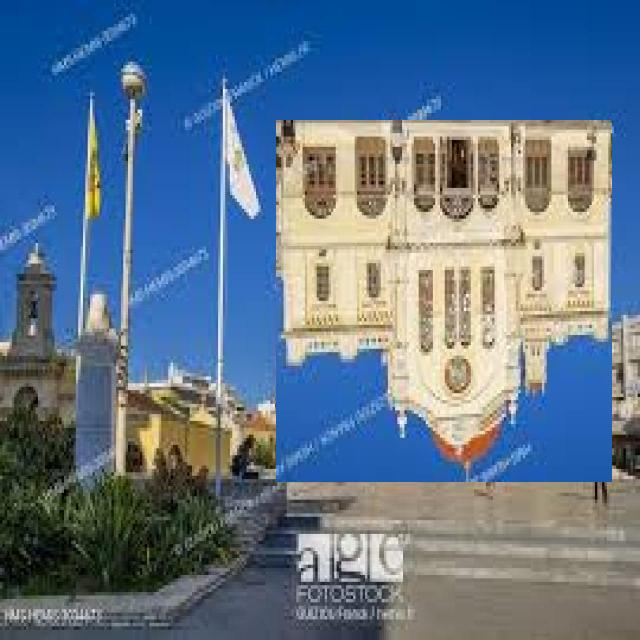Agios Minas: (278, 121, 614, 483)
